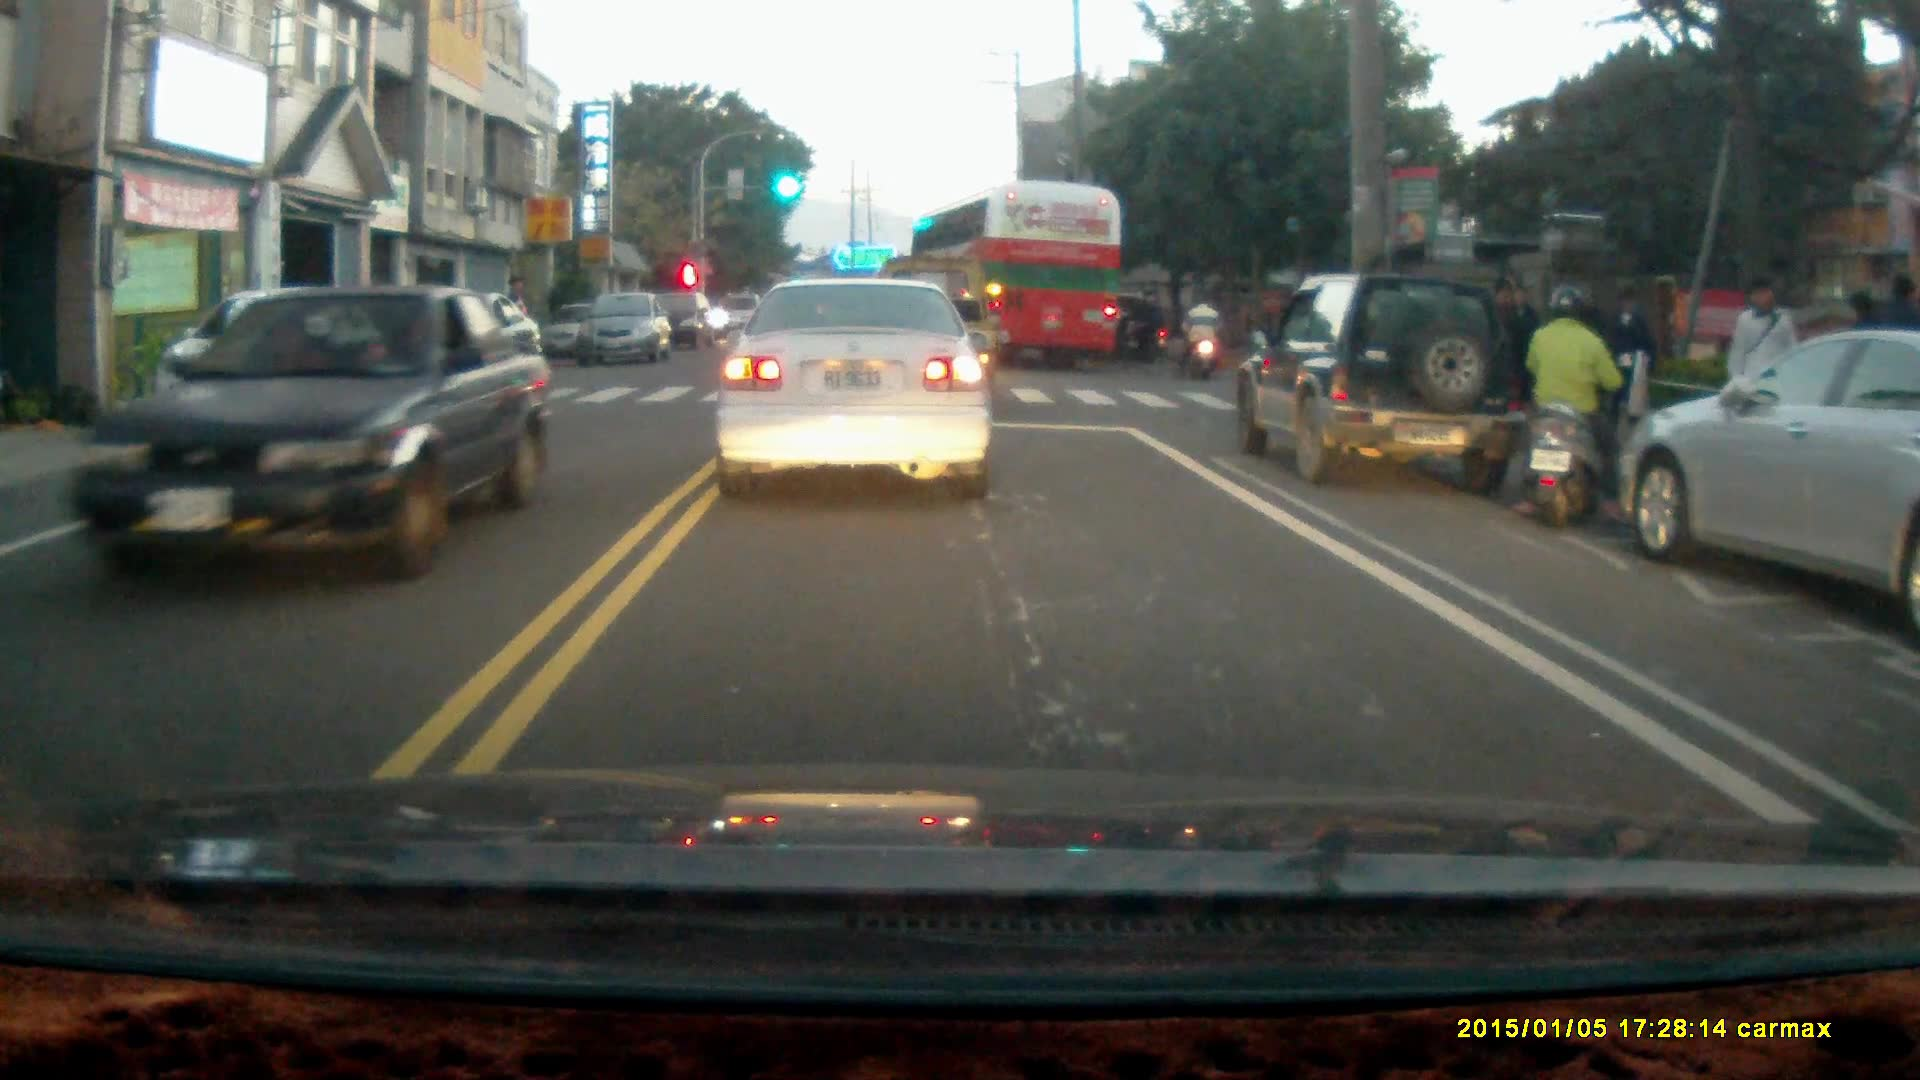pedestrian: (1725, 273, 1802, 444), (1598, 282, 1654, 449)
rider: (1514, 285, 1634, 527), (1107, 291, 1171, 364), (1179, 289, 1222, 378)
vehicle: (62, 281, 543, 587), (1621, 332, 1920, 643), (712, 272, 1000, 503), (1230, 273, 1532, 491), (903, 179, 1130, 373), (580, 291, 675, 368), (637, 286, 722, 355)
